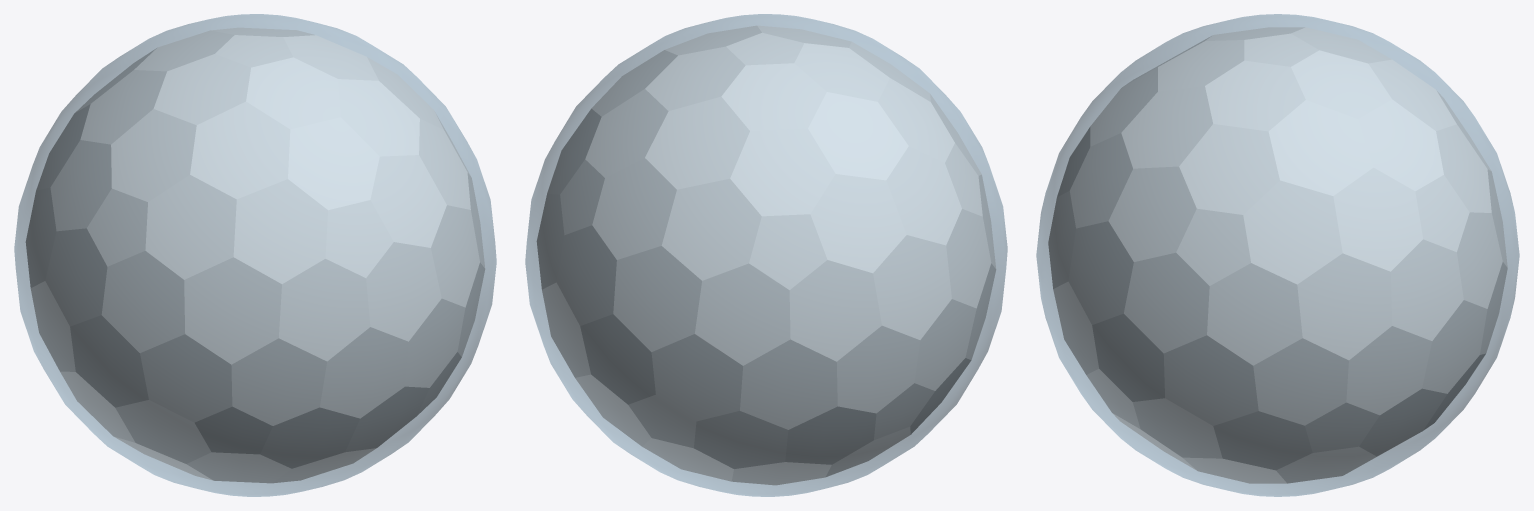
File: planet_1.glb
3 renders of one model, left to right at view 1: azimuth 30°, elevation 25°; view 2: azimuth 150°, elevation 25°; view 3: azimuth 270°, elevation 25°, orthographic.
Parts seen in each view (by area): view 1: 球体, GD_mesh; view 2: 球体, GD_mesh; view 3: 球体, GD_mesh.
Part boxes in pixels (left/top/right/bottom): 球体: left=14, top=14, right=496, bottom=496; GD_mesh: left=25, top=27, right=485, bottom=483; 球体: left=525, top=14, right=1007, bottom=496; GD_mesh: left=536, top=25, right=996, bottom=485; 球体: left=1036, top=14, right=1519, bottom=496; GD_mesh: left=1048, top=27, right=1507, bottom=483.
Size of the model in its own units: 8.4 by 8.4 by 8.4.
